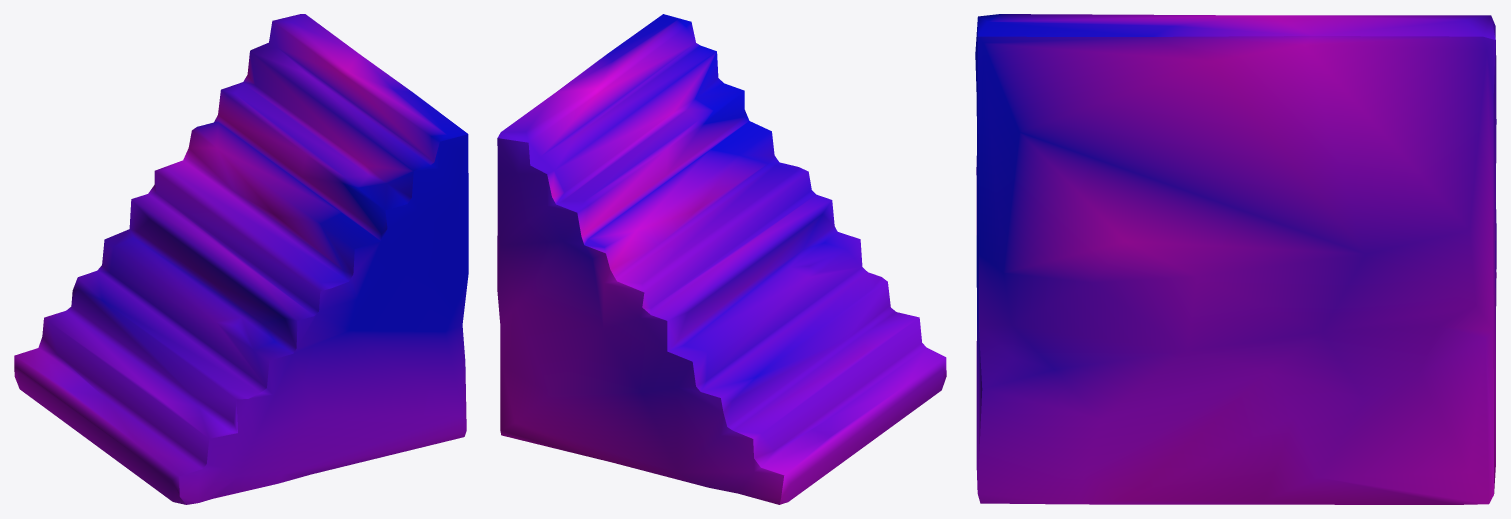
Rendered from SM_Stairs_B.FBX.
The picture shows the model from 3 angles, left to right: view 1: azimuth 30°, elevation 25°; view 2: azimuth 150°, elevation 25°; view 3: azimuth 270°, elevation 25°; orthographic projection. The views are drawn at different scales.
Visible parts, largest first — view 1: SM_Stairs_B; view 2: SM_Stairs_B; view 3: SM_Stairs_B.
Part boxes in pixels (left/top/right/bottom): SM_Stairs_B: left=14, top=14, right=468, bottom=504; SM_Stairs_B: left=497, top=14, right=946, bottom=504; SM_Stairs_B: left=975, top=14, right=1496, bottom=504.
Size of what is drawn, in the model's own units: 200 by 200 by 200.
